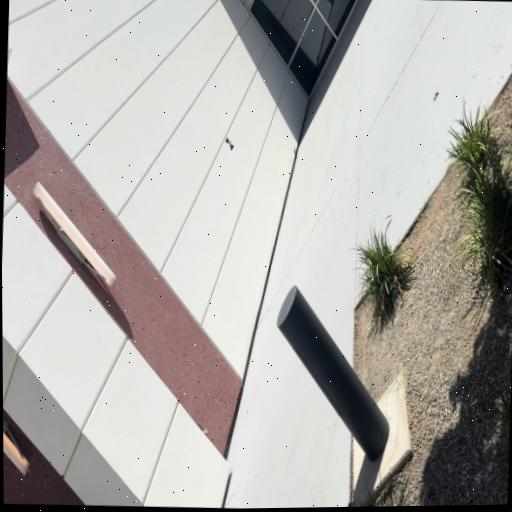target4: (224, 136, 234, 151)
